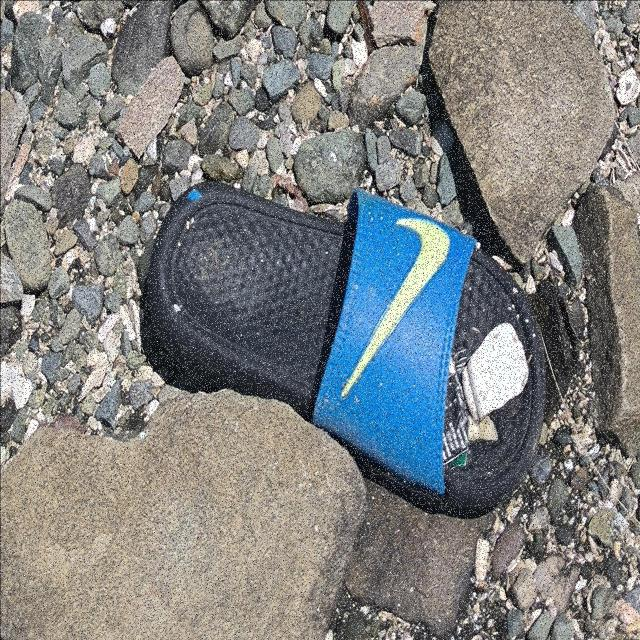rubber_waste: (146, 177, 550, 516)
